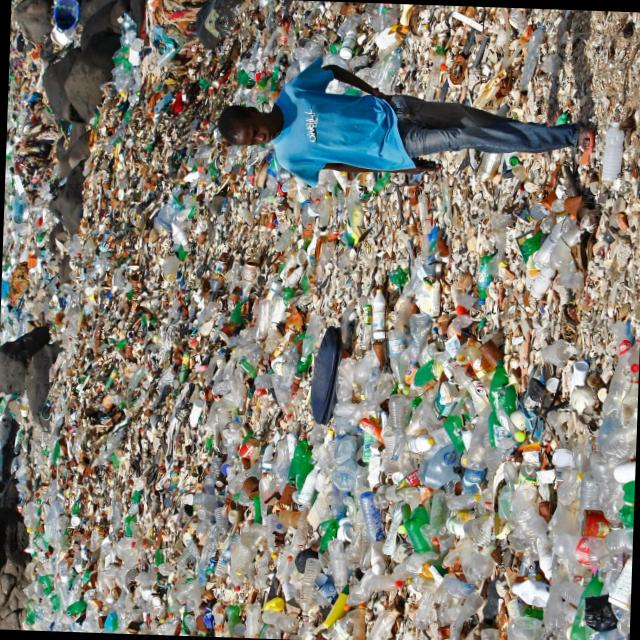plastic_bottle: (2, 17, 637, 630), (237, 404, 369, 591), (530, 417, 612, 578), (377, 304, 417, 405)
